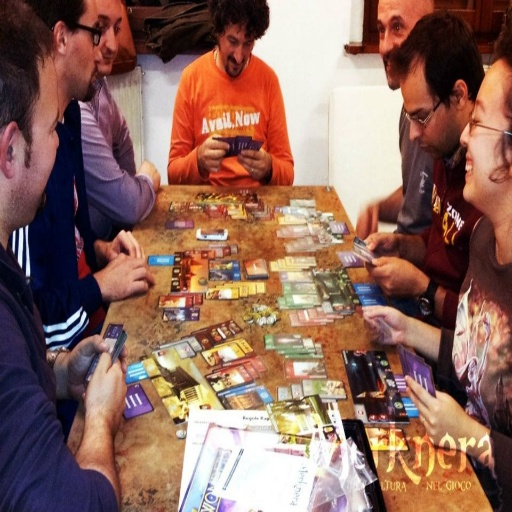hand: (403, 372, 470, 449), (91, 225, 152, 301), (67, 330, 128, 404), (81, 350, 126, 438), (365, 256, 419, 300), (363, 304, 403, 344), (105, 227, 146, 261), (198, 132, 230, 174), (236, 146, 272, 181), (364, 227, 401, 260), (132, 156, 160, 195), (354, 201, 379, 239)
